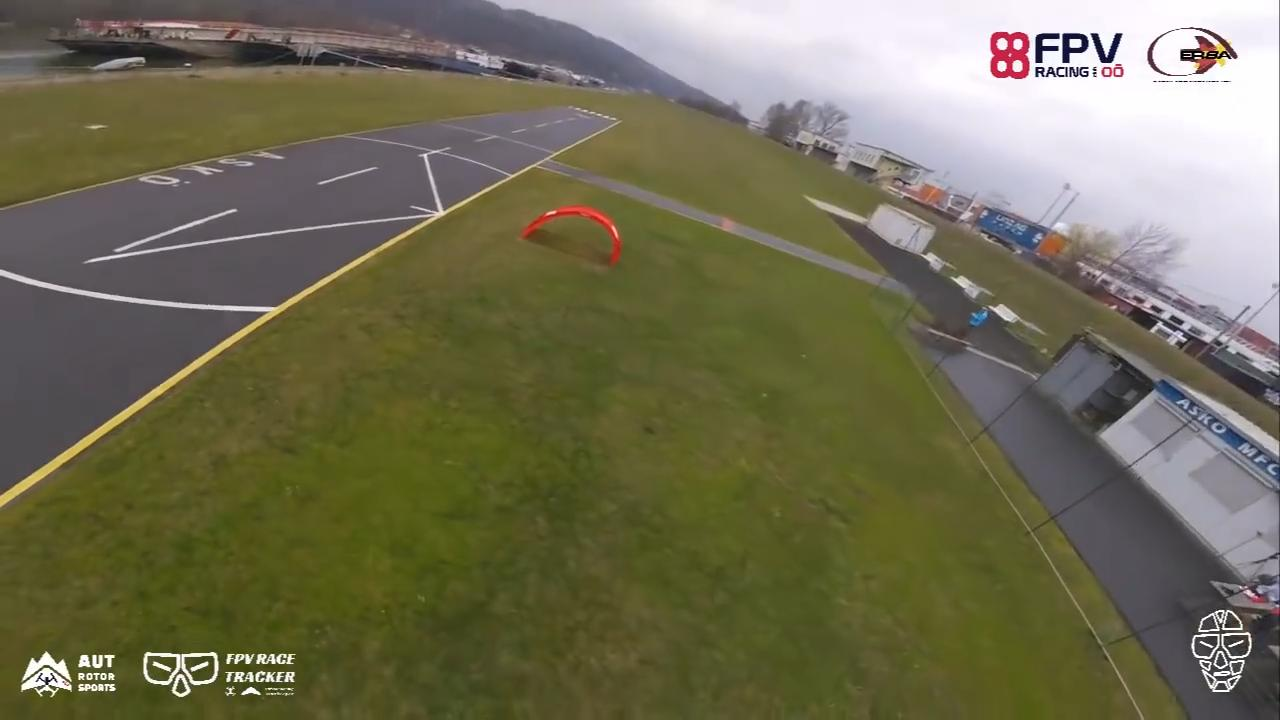gate: (520, 204, 615, 271)
